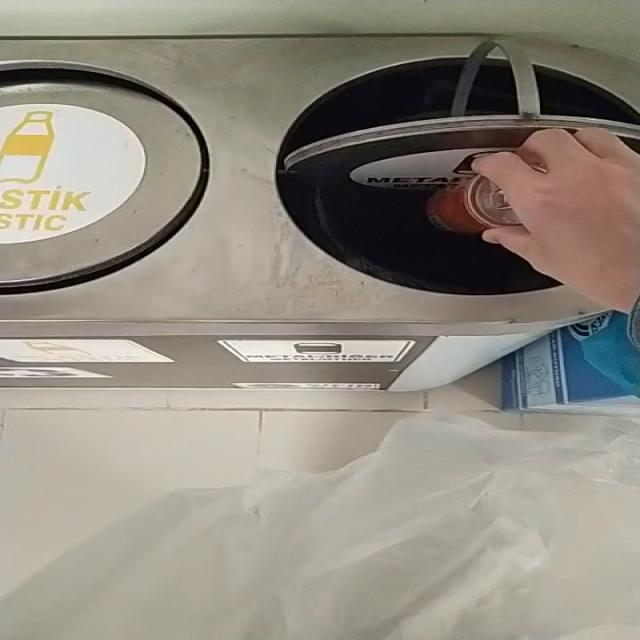bin: (0, 33, 640, 391)
metal: (427, 174, 523, 234)
